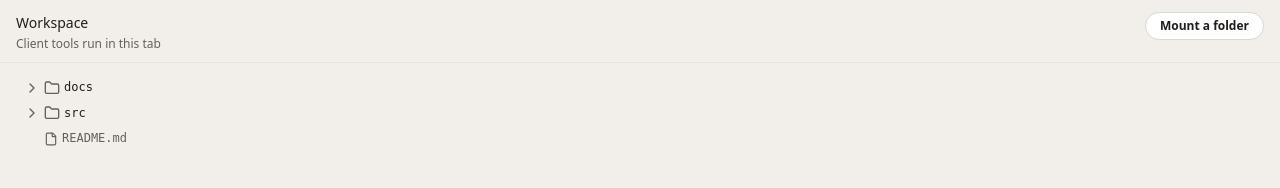
Test: the workspace file tree › is one Tab stop per row, and a folder opens from its name
The width and height of the screenshot is (1280, 188).
Click the button "src" at (52, 113), box [44,105,1256,122]
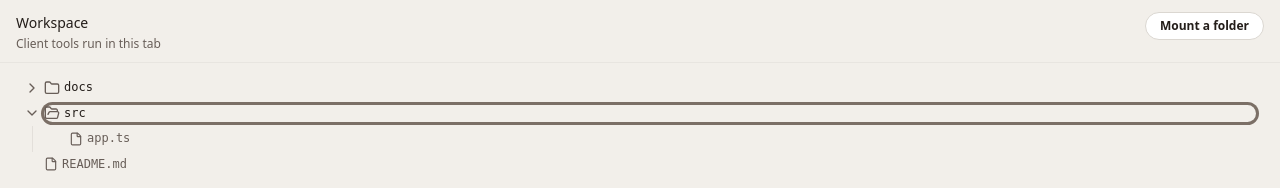
expect the text "app.ts" is shown: met, box [87,130,130,148]
